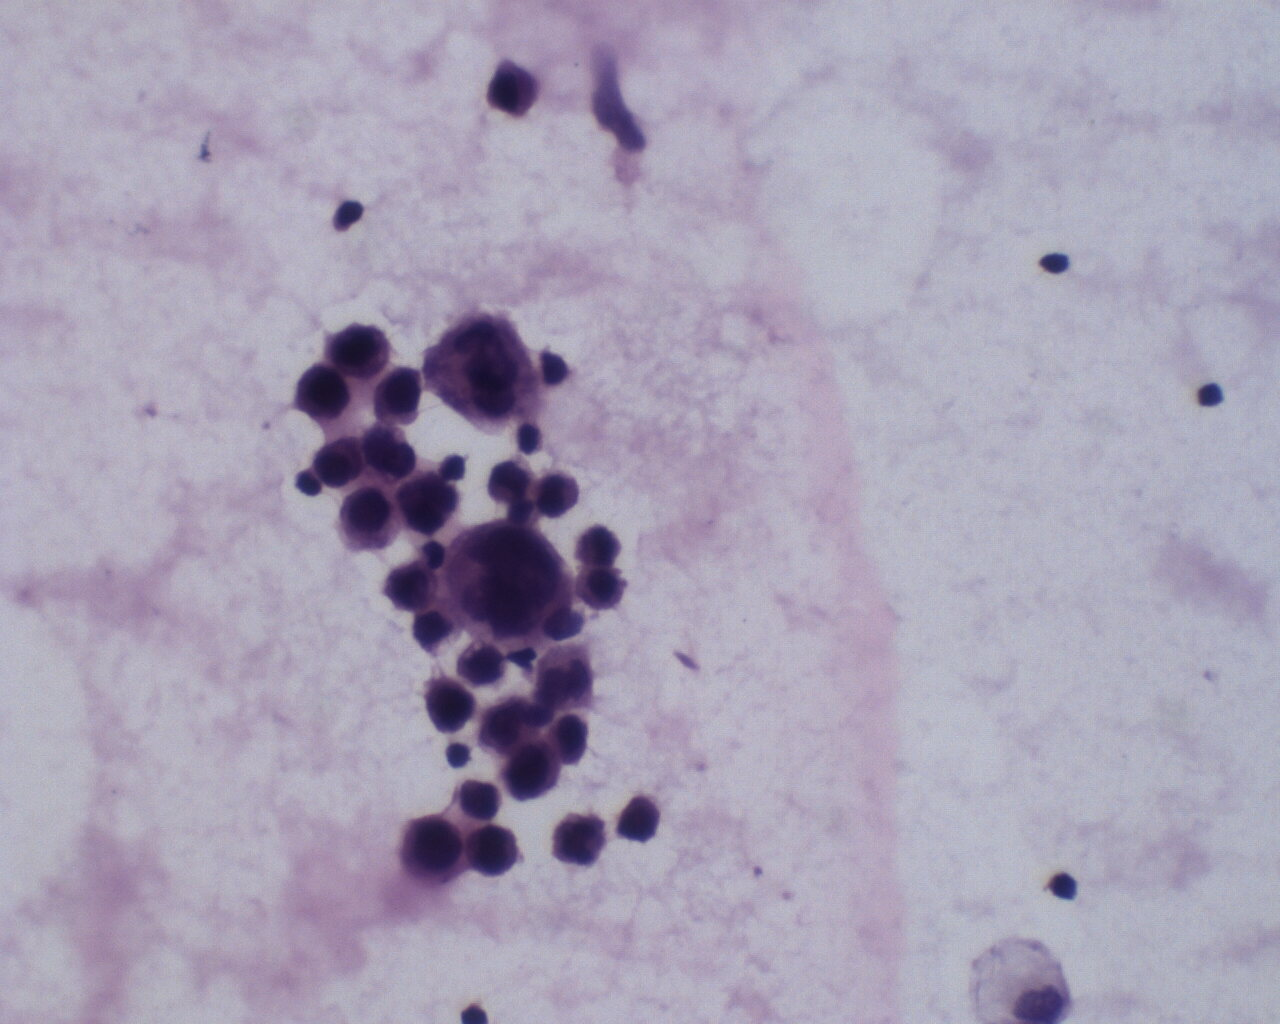ab: (443, 516, 575, 652), (419, 308, 539, 439), (327, 313, 403, 386), (395, 815, 466, 885), (334, 480, 394, 557), (397, 467, 458, 537), (546, 811, 610, 872), (465, 817, 525, 882), (290, 362, 351, 424), (502, 739, 560, 804), (371, 364, 426, 428), (381, 557, 441, 615), (420, 673, 476, 734), (531, 468, 585, 523), (481, 456, 535, 506), (614, 792, 664, 847), (455, 635, 507, 686)
histo: (962, 927, 1077, 1024)
lymph: (441, 737, 473, 772), (1196, 378, 1228, 410)
